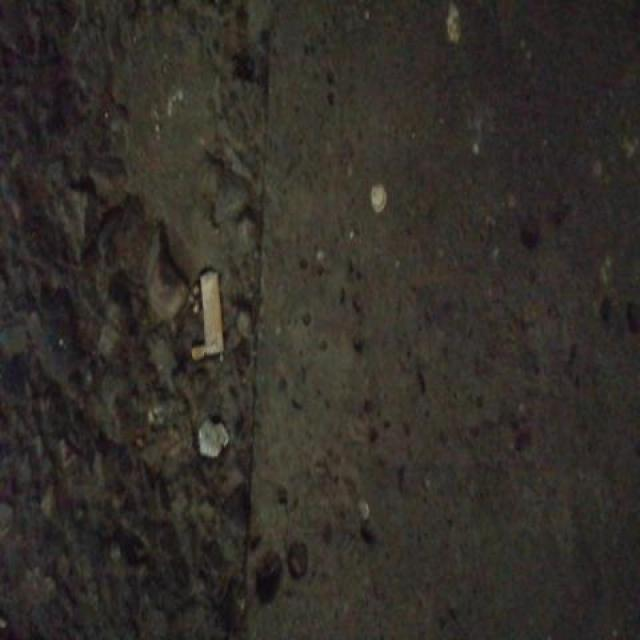non-organic waste: (198, 265, 227, 358)
